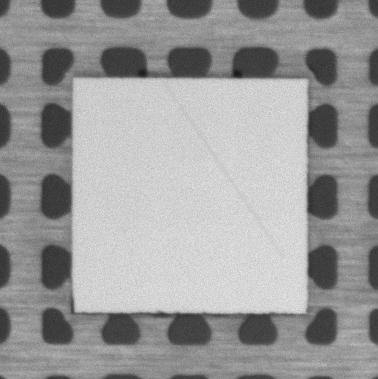DIE_CRACK: (164, 82, 282, 258)
